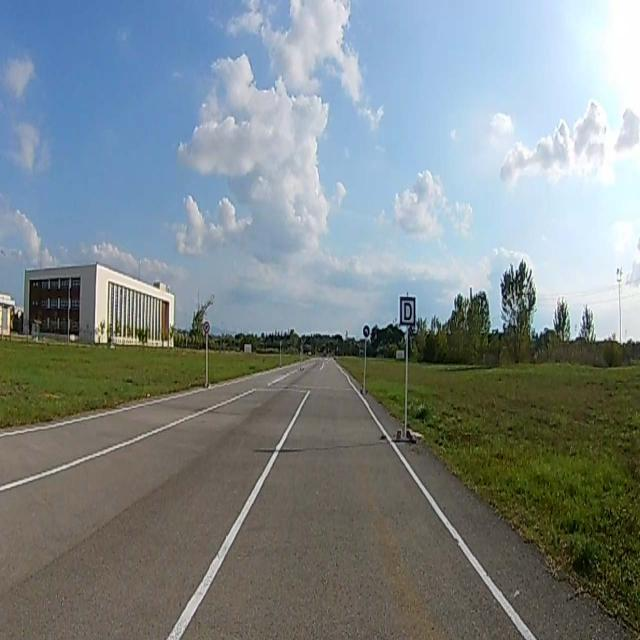durak: (400, 294, 416, 326)
